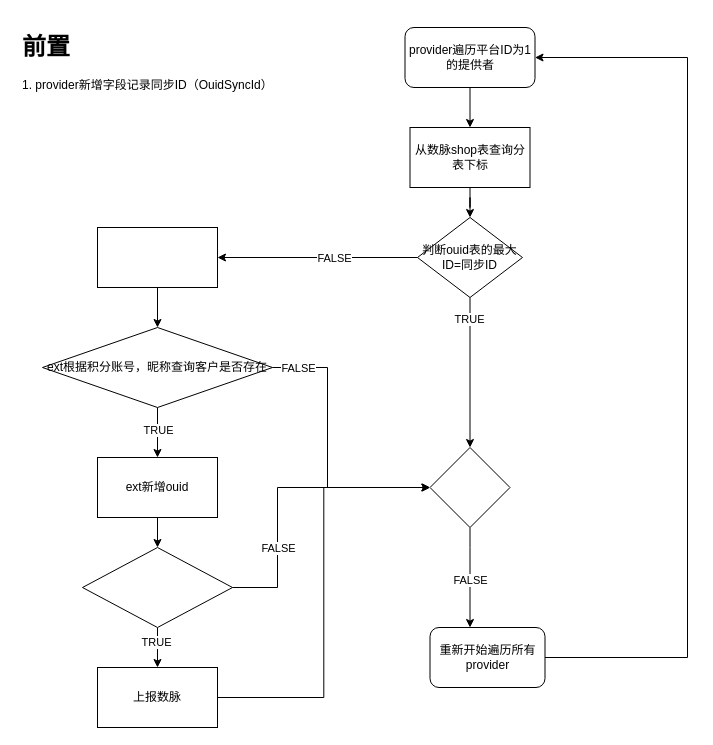
Image size: 713x745. Some labels were removed from this diagram. The box of each missing label's shape, as (x1, y1, x2, y2) in pixels:
下一家provider: (429, 446, 510, 528)
批量拉取数据: (96, 226, 218, 288)
查询ouid是否多条: (82, 546, 232, 628)
